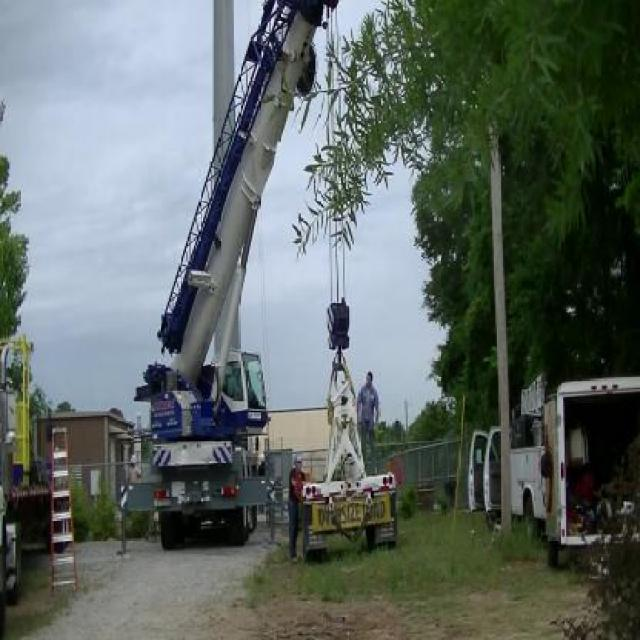Mobile Crane: (115, 0, 334, 554)
